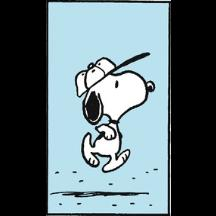snoopy: (74, 52, 156, 174)
